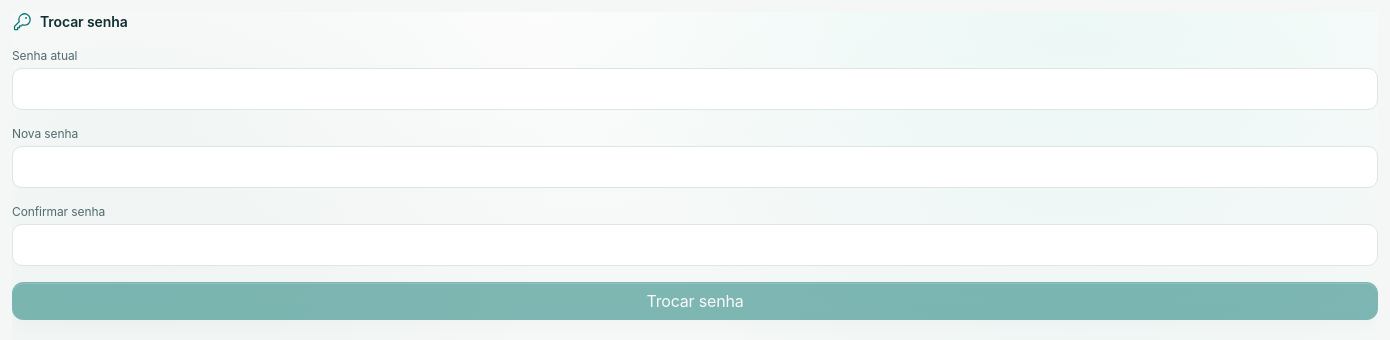
Test: TrocaDeSenha › habilita o botão quando os campos são preenchidos corretamente
Type "MinhaAtual@1" into the password field labelled "Senha atual".
click(695, 89); type("MinhaAtual@1")  # box [12,68,1378,110]
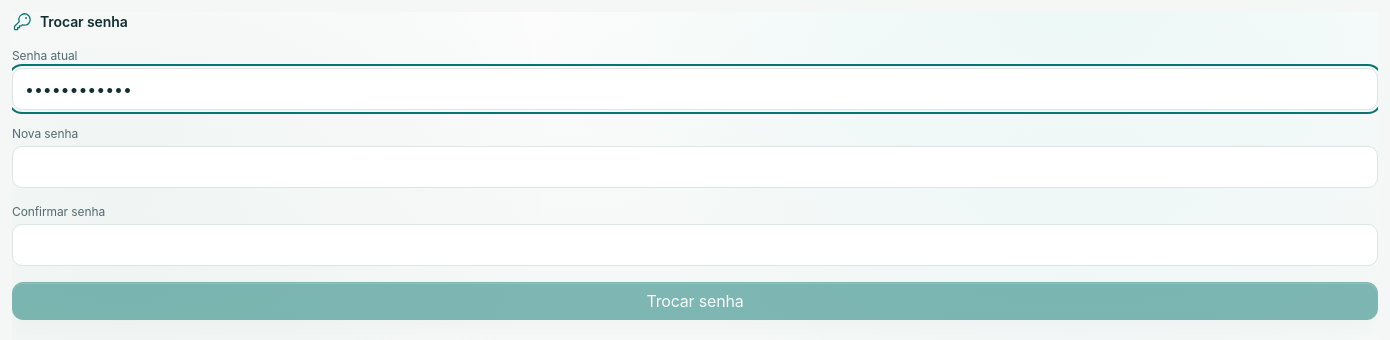
Type "NovaSenha@2026" into the password field labelled "Nova senha".
click(695, 167); type("NovaSenha@2026")  # box [12,146,1378,188]
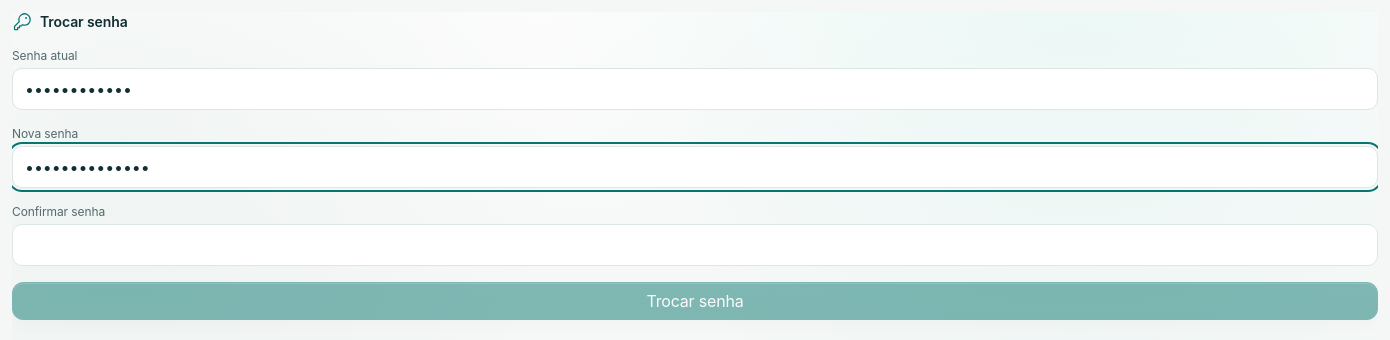
Type "NovaSenha@2026" into the password field labelled "Confirmar senha".
click(695, 245); type("NovaSenha@2026")  # box [12,224,1378,266]
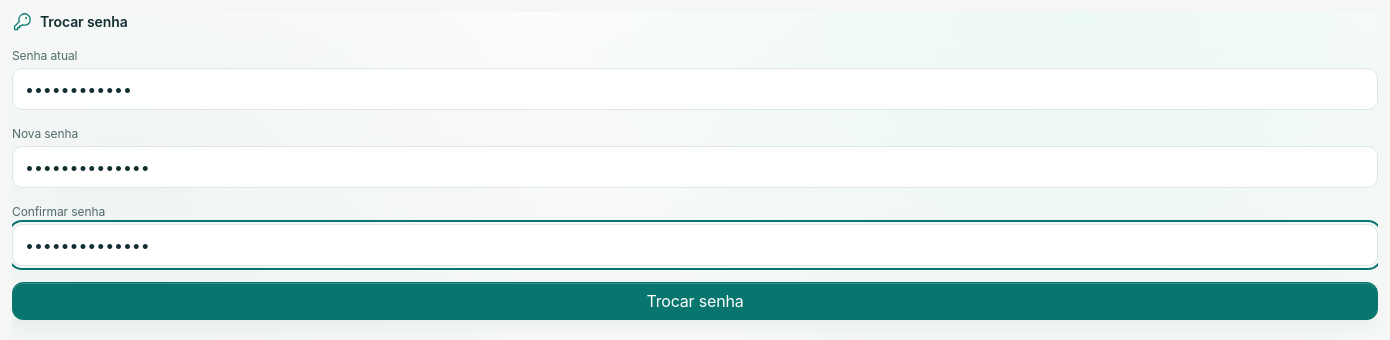
expect the button "Trocar senha" is enabled: met, box [12,282,1378,320]
